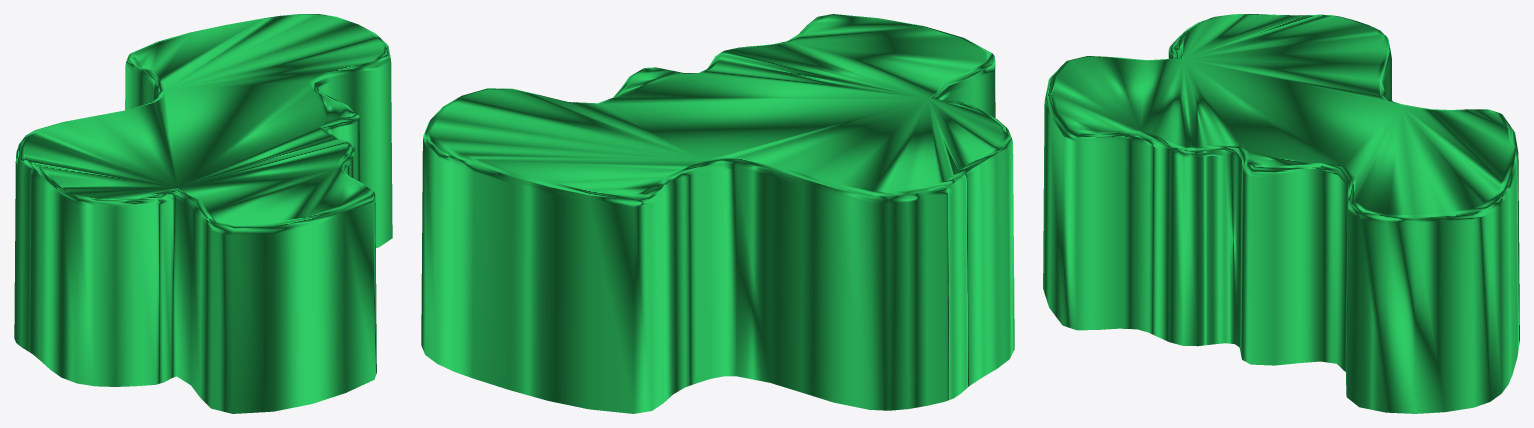
Rendered from lorville_noflyzone_suburb_redout_15.glb.
The picture shows the model from 3 angles, left to right: view 1: azimuth 30°, elevation 25°; view 2: azimuth 150°, elevation 25°; view 3: azimuth 270°, elevation 25°; orthographic projection. The views are drawn at different scales.
Bounding box in the file's own units: 3651 × 1591 × 3530.
